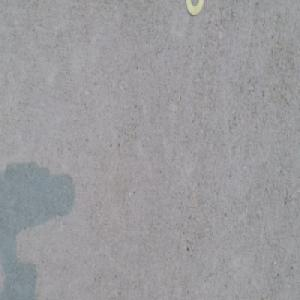Washer: (186, 0, 203, 16)
